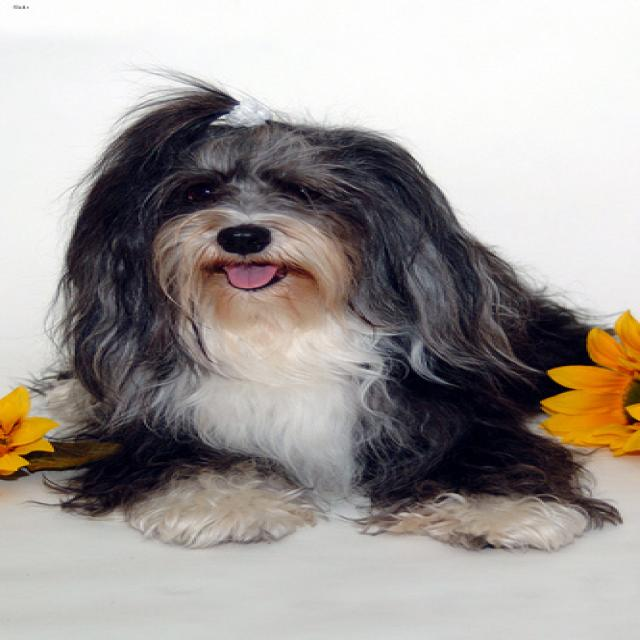dog-havanese: (12, 55, 636, 561)
